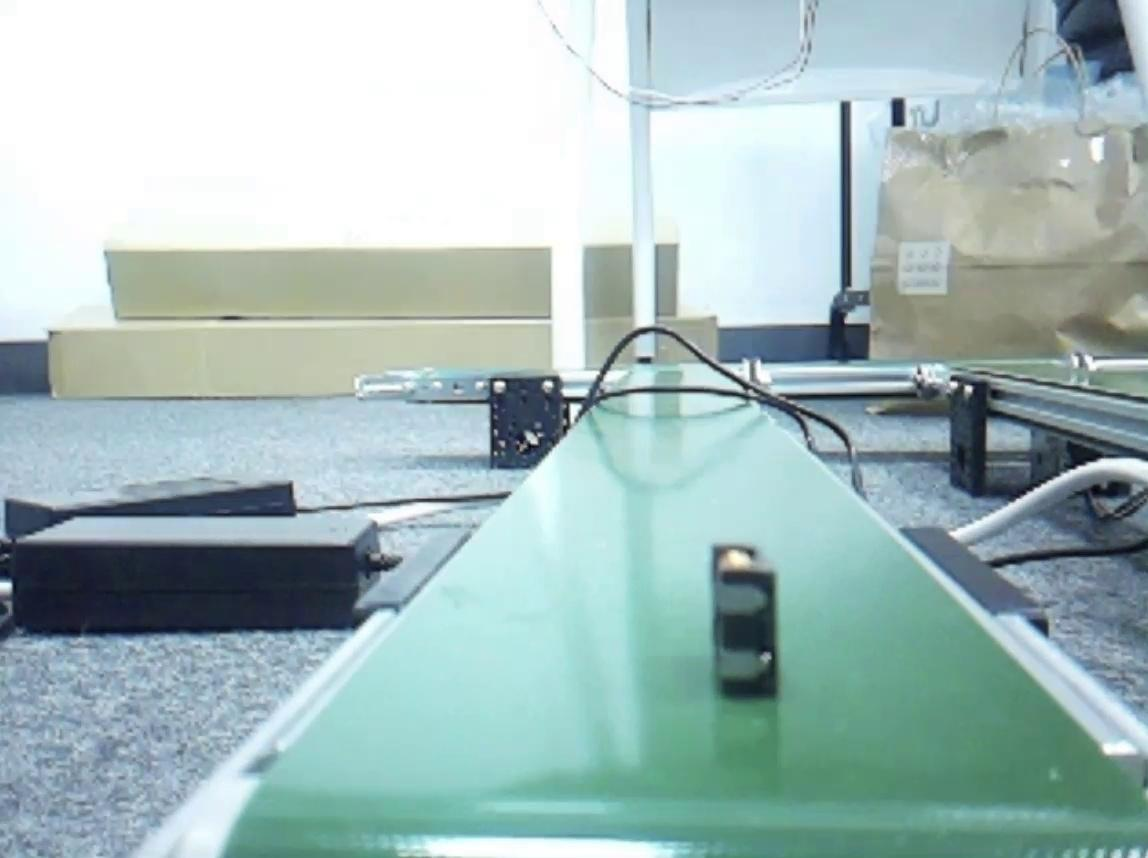inductor: (715, 547, 783, 697)
